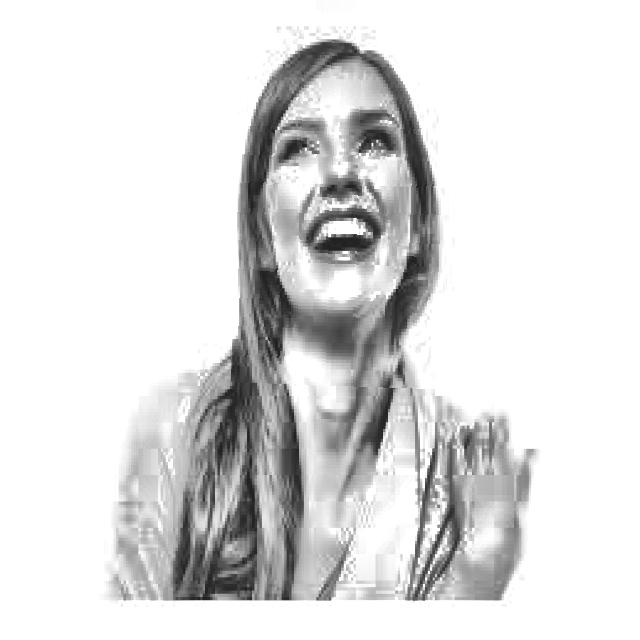happy: (234, 39, 451, 388)
